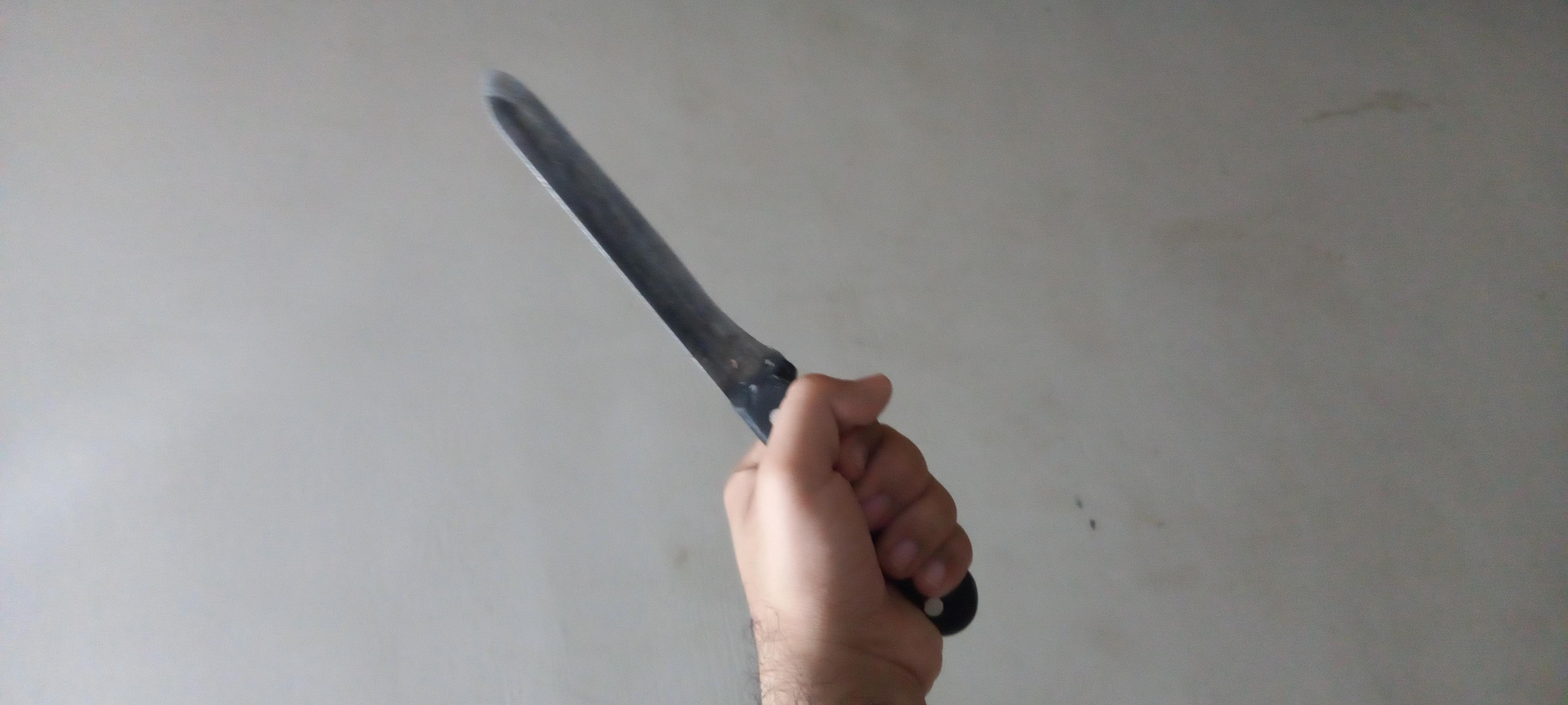knives: (154, 217, 1437, 437)
